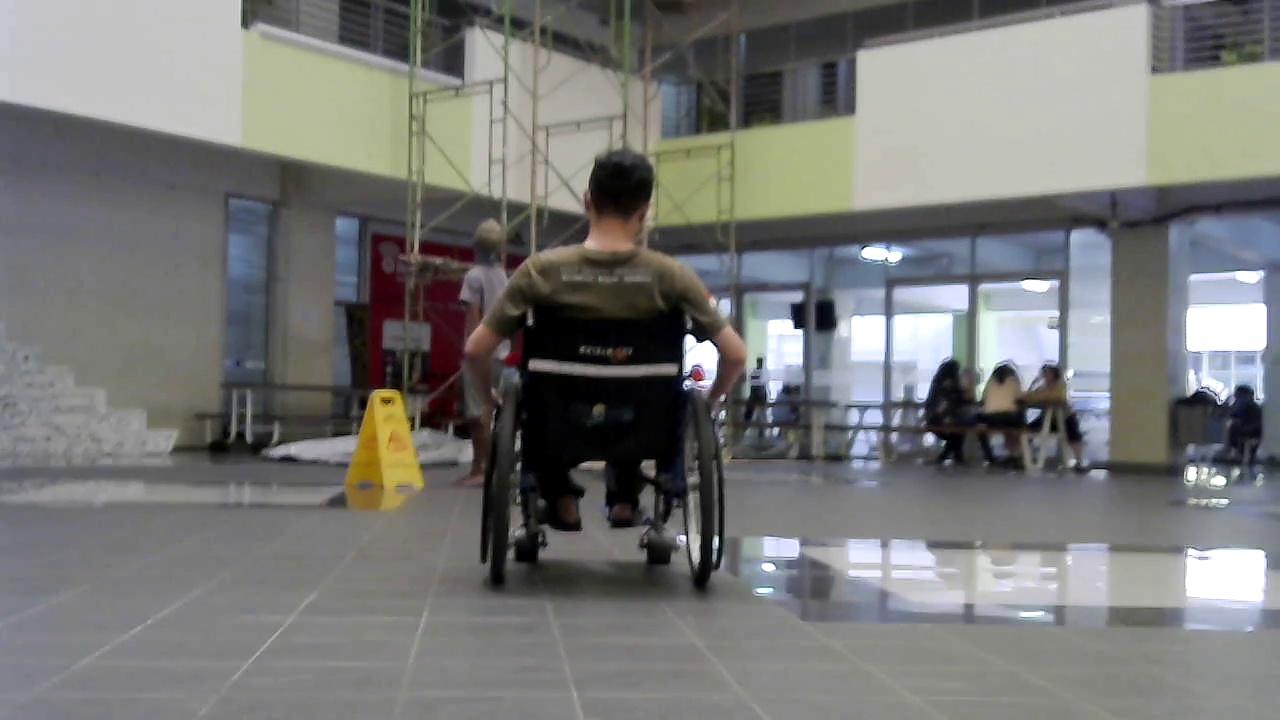person: (460, 147, 750, 543), (459, 219, 510, 486), (920, 357, 983, 470), (1021, 363, 1084, 474), (978, 362, 1028, 473), (1223, 382, 1266, 483)
wheelchair: (452, 290, 738, 600)
